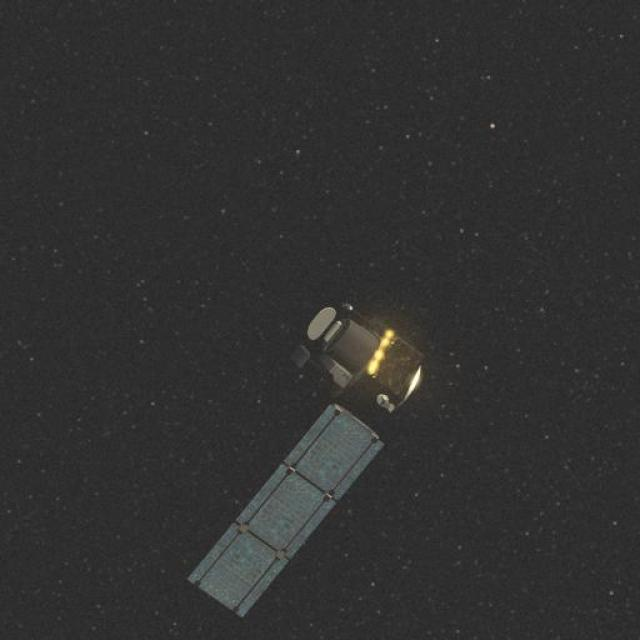earth_observation_sat_1: (254, 290, 448, 503)
